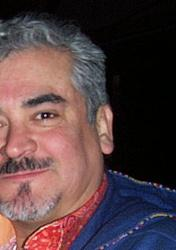person: (0, 12, 176, 250)
